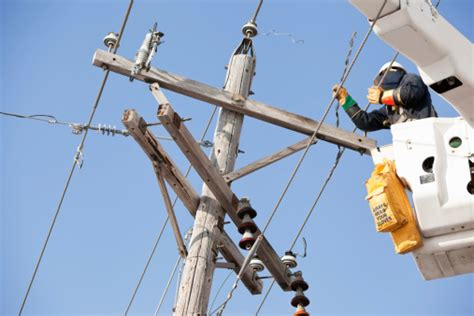pole: (82, 11, 394, 316)
